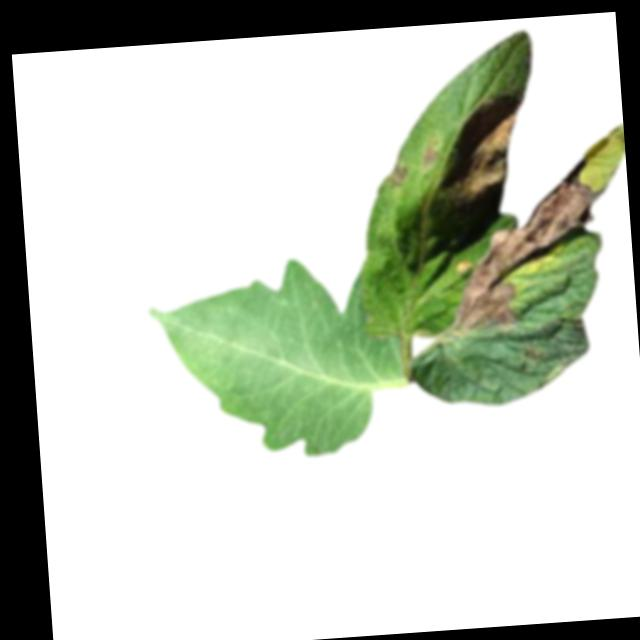Late_blight: (438, 156, 614, 336), (444, 93, 530, 210), (384, 160, 411, 189), (417, 137, 437, 171)
healthy: (140, 248, 414, 469)
